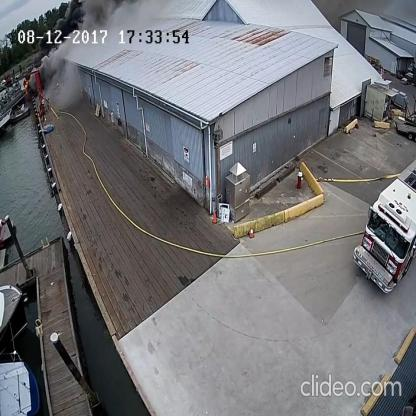fire: (23, 77, 32, 100)
